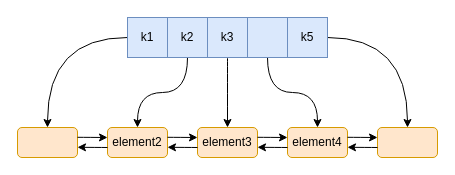
This 455x175 diagram has some shape labels left out. Each missing label, with the centre of its shape:
"element1" belongs at pixel 47 142.
"element5" belongs at pixel 407 142.
"k4" belongs at pixel 267 37.
